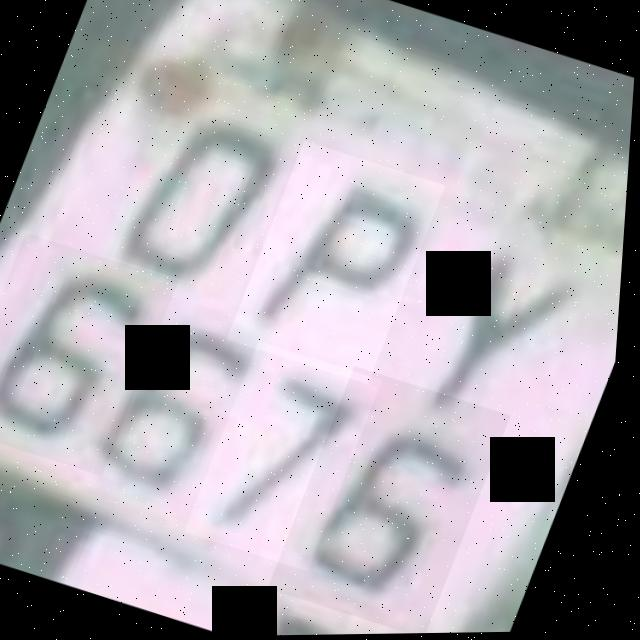6: (54, 273, 312, 539), (273, 366, 520, 636), (0, 231, 185, 478)
7: (189, 341, 389, 574)
O: (96, 85, 308, 318)
P: (229, 140, 451, 388)
Y: (394, 205, 608, 447)
